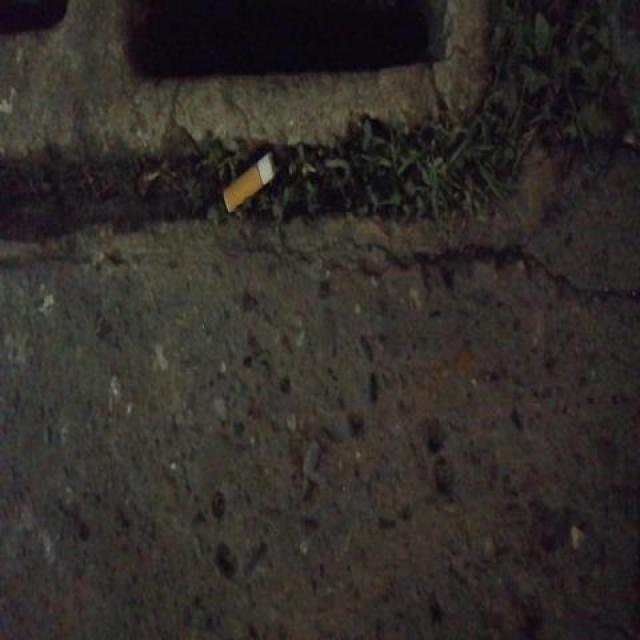non-organic waste: (218, 147, 281, 221)
